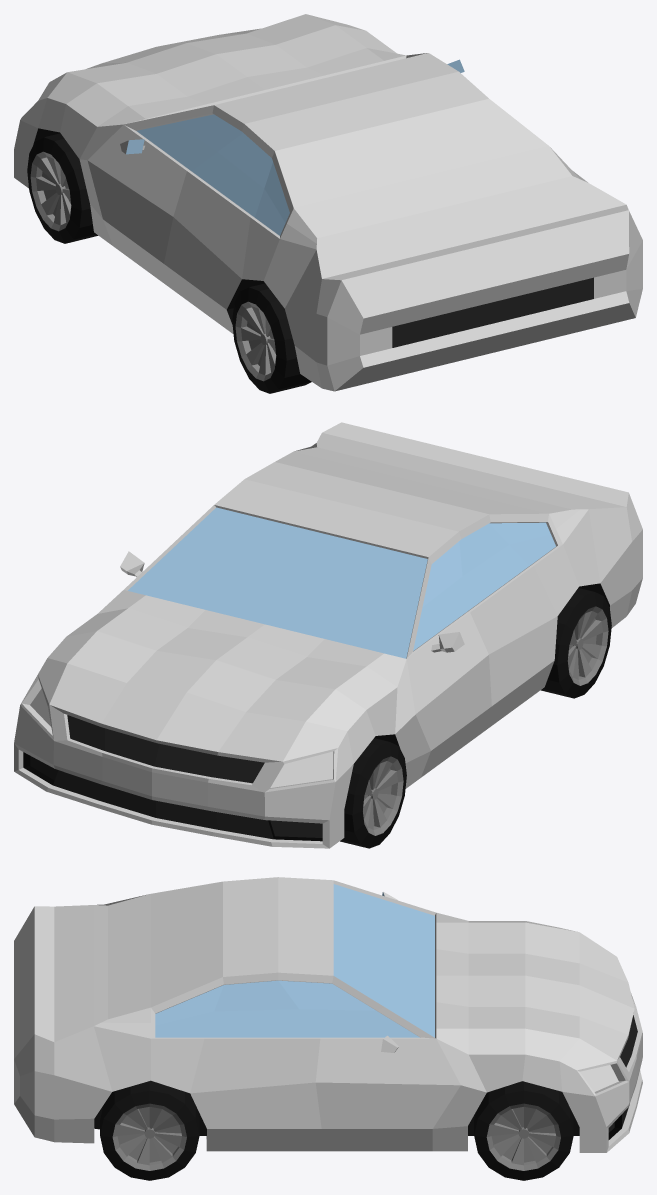
Rendered from white_car_finalfbx.fbx.
3 views of the same model, one above another, from view 1: azimuth 30°, elevation 25°; view 2: azimuth 150°, elevation 25°; view 3: azimuth 270°, elevation 25° (orthographic). The views are drawn at different scales.
Visible parts, largest first — view 1: Body, RL_Wheel, FL_Wheel; view 2: Body, FL_Wheel, RL_Wheel; view 3: Body, RR_Wheel, FR_Wheel.
Part boxes in pixels (box(x1,y1,x2,y2)): Body: box(14, 14, 642, 391); RL_Wheel: box(232, 283, 311, 393); FL_Wheel: box(27, 133, 98, 243); Body: box(14, 422, 642, 848); FL_Wheel: box(340, 738, 406, 848); RL_Wheel: box(541, 588, 611, 698); Body: box(14, 877, 642, 1152); RR_Wheel: box(100, 1080, 199, 1180); FR_Wheel: box(474, 1081, 573, 1180).
Size of the model in its own units: 2.52 by 4.43 by 1.43.
